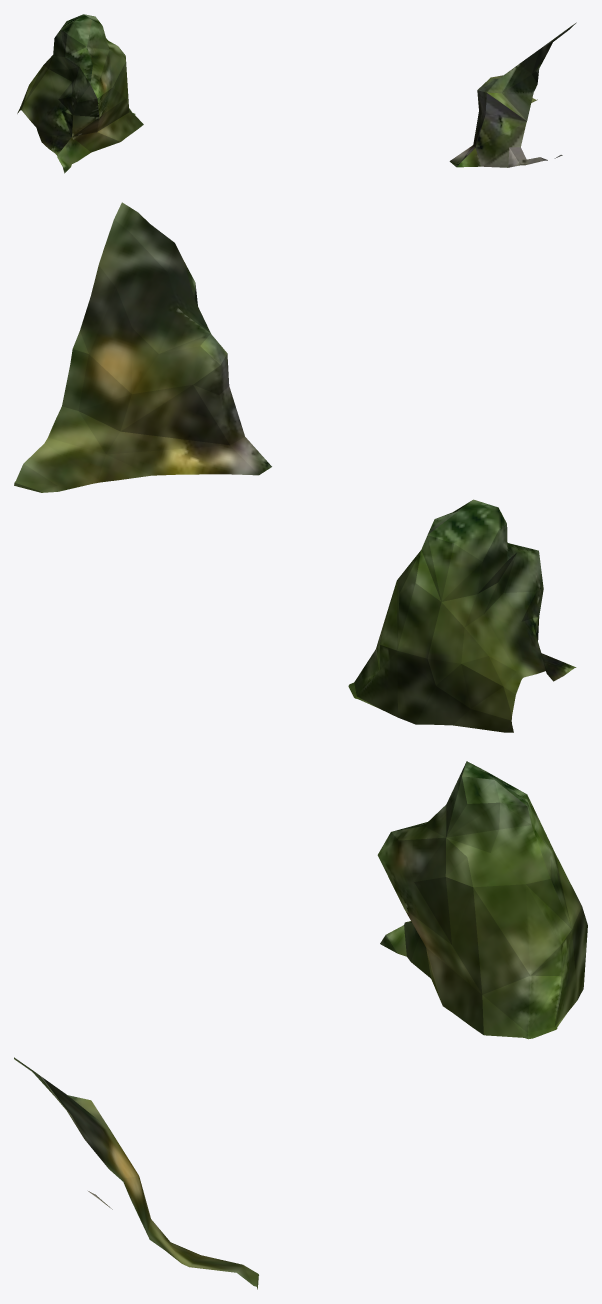
3 views of the same model, one above another, from view 1: azimuth 30°, elevation 25°; view 2: azimuth 150°, elevation 25°; view 3: azimuth 270°, elevation 25° (orthographic). The views are drawn at different scales.
Bounding box in the file's own units: 0.8373 × 0.2605 × 0.5871.
1 material, 1 textured.
